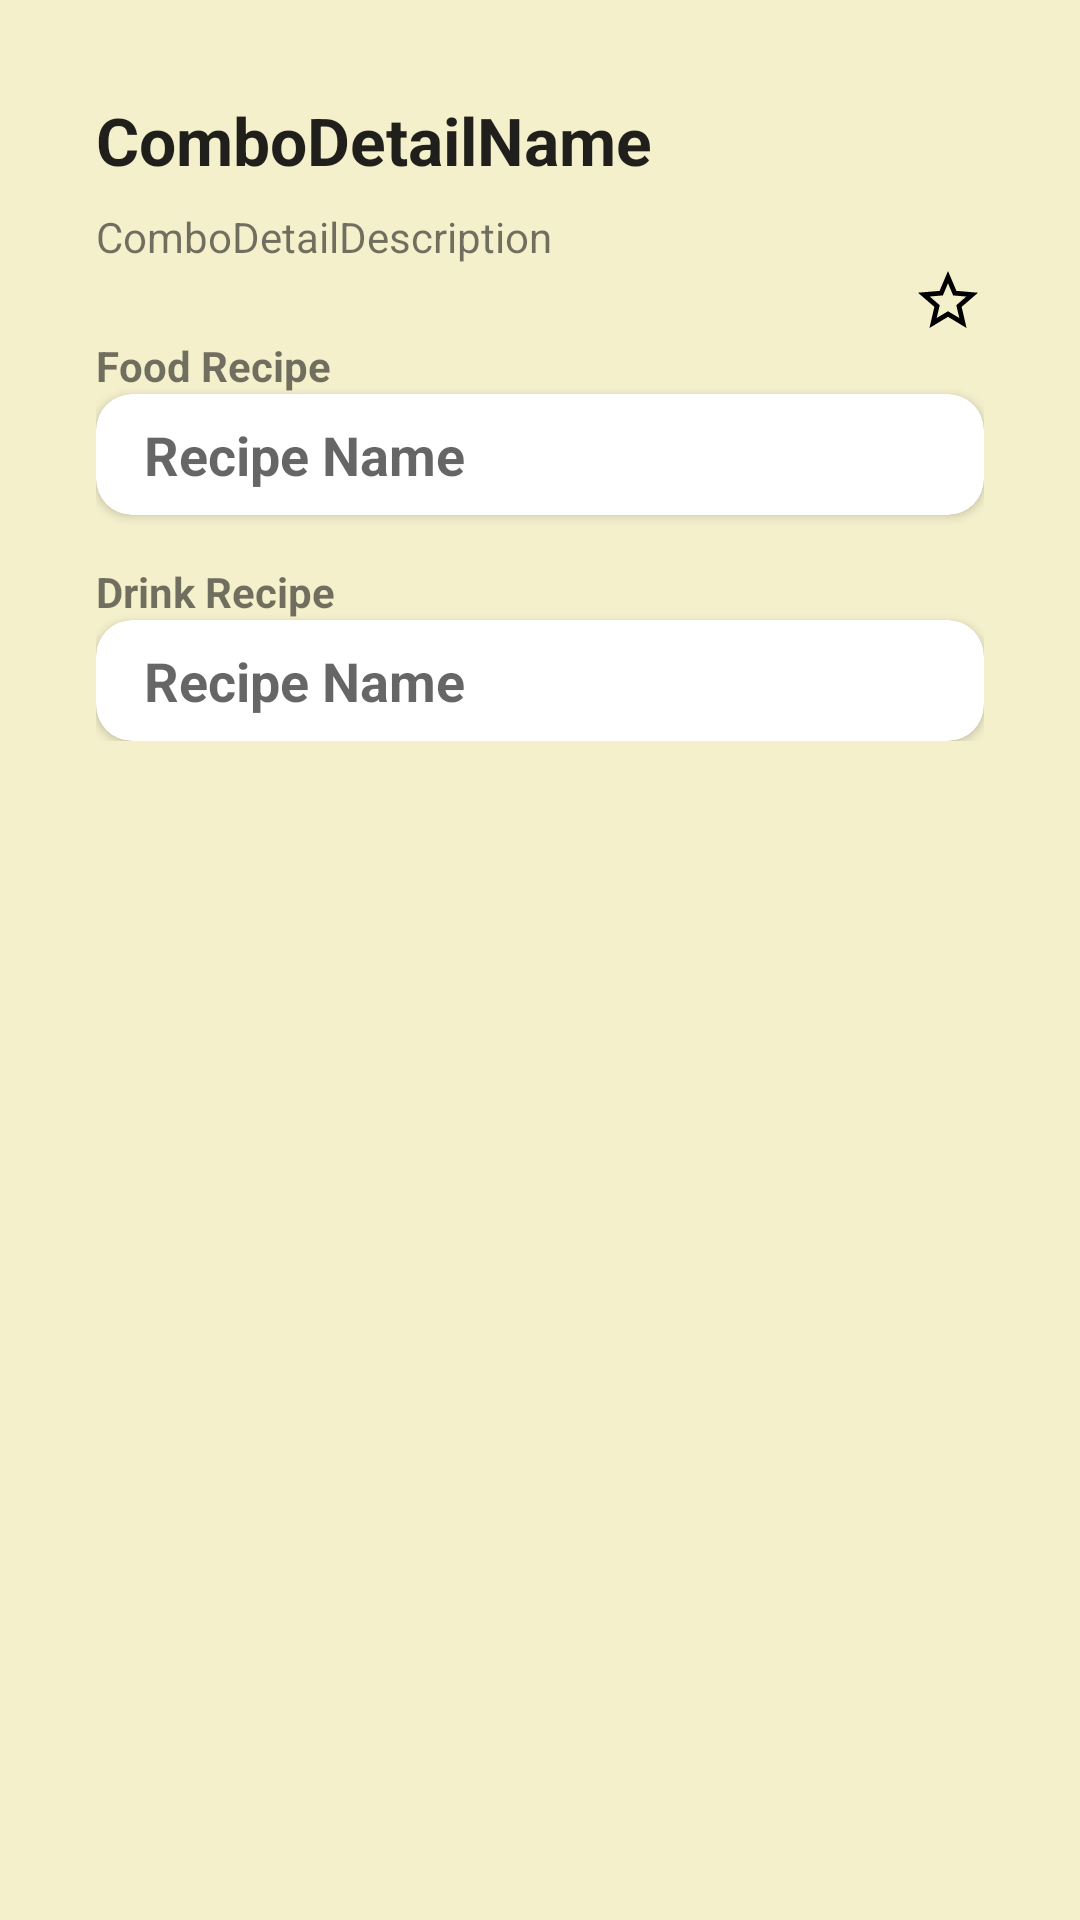

Where icons sit on this 1080 x 1920 app screen, as (x1, y1, x2, y2):
star border: (918, 271, 978, 328)
